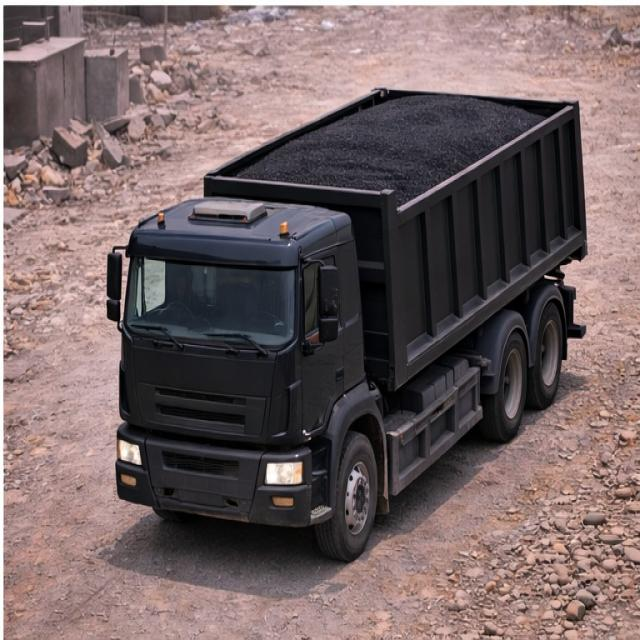Box: (212, 84, 589, 194)
Truck: (105, 72, 606, 529)
